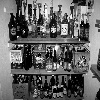beer: (8, 12, 19, 42)
